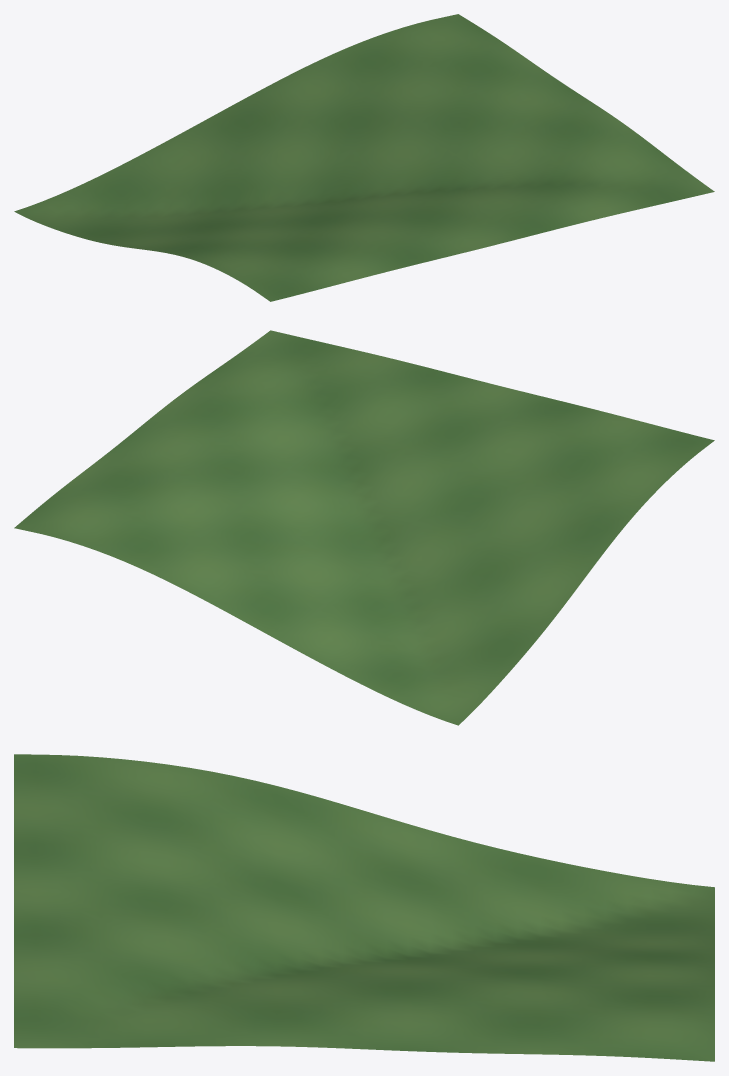
Rendered from chunk_12_12.glb.
3 views of the same model, one above another, from view 1: azimuth 30°, elevation 25°; view 2: azimuth 150°, elevation 25°; view 3: azimuth 270°, elevation 25° (orthographic). The views are drawn at different scales.
Bounding box in the file's own units: 512 × 111 × 512.
